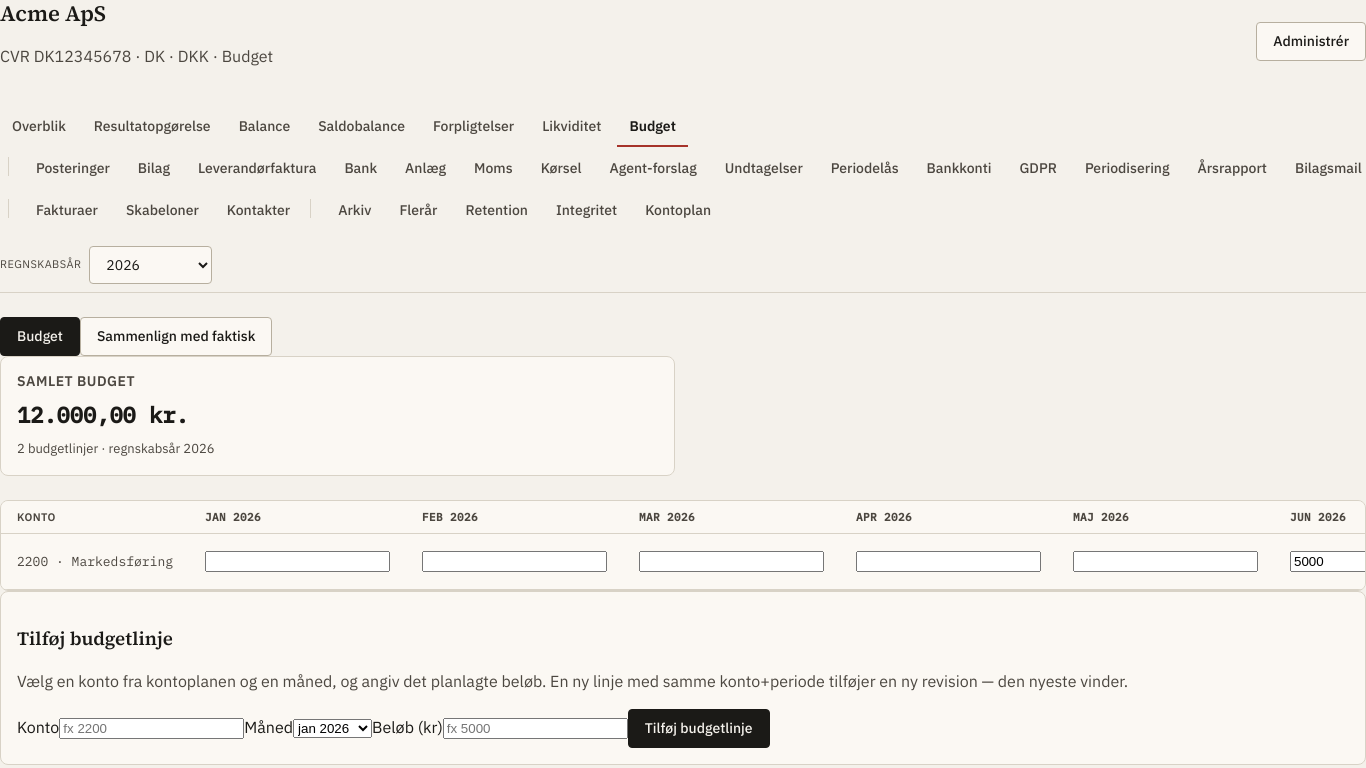
Test: BudgetView — Budget › offers a Sammenlign med faktisk toggle that swaps to the comparison table
Click the tab "Sammenlign med faktisk".
click(176, 336)  # box [80,316,272,356]
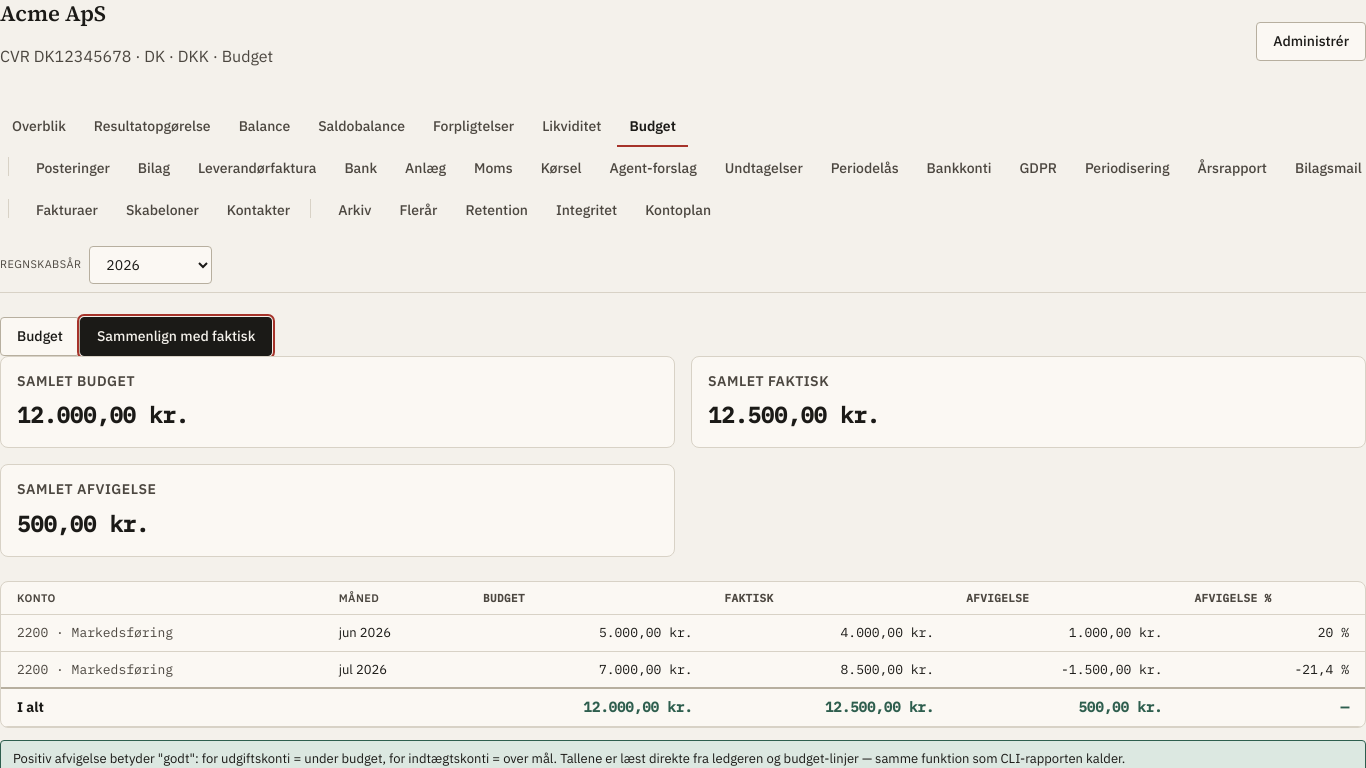
Expected: the column heading "Faktisk" is shown, [709,582,950,614]
Expected: the column heading "Afvigelse" is shown, [950,582,1178,614]
Expected: the column heading "Afvigelse %" is shown, [1178,582,1365,614]
